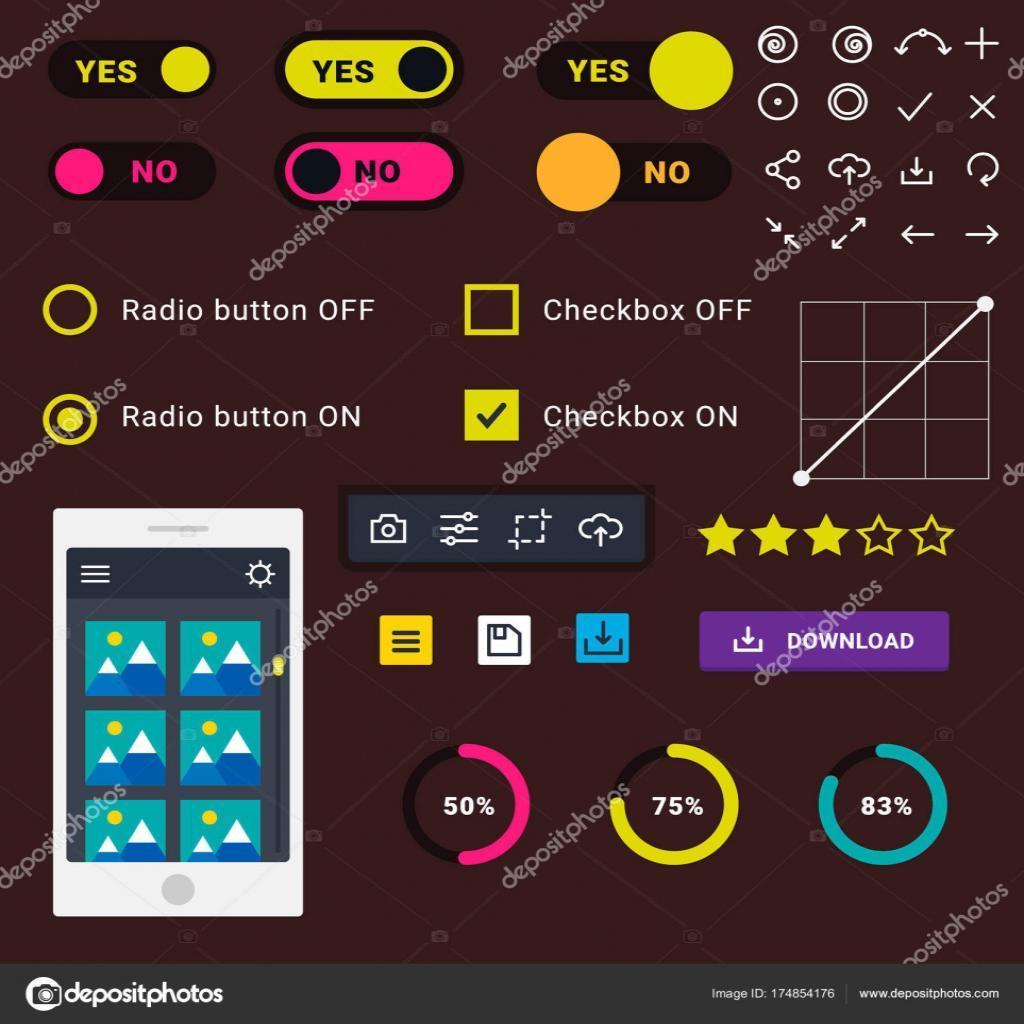button: (699, 615, 951, 675)
checkbox: (465, 391, 521, 443), (465, 286, 519, 337)
icon: (479, 614, 533, 665), (577, 615, 632, 664), (822, 148, 878, 195), (895, 26, 957, 68), (384, 617, 435, 667), (435, 510, 483, 552), (577, 511, 625, 552), (763, 146, 803, 193), (509, 508, 552, 551), (962, 146, 1002, 192), (892, 89, 940, 126), (899, 154, 939, 194), (765, 215, 804, 256), (832, 214, 871, 254), (966, 28, 1004, 67), (75, 561, 121, 593), (370, 513, 410, 549), (962, 92, 1003, 127), (964, 217, 1002, 252), (899, 219, 937, 253), (243, 561, 277, 593)
label: (119, 398, 370, 433), (121, 296, 376, 327), (544, 400, 744, 435), (538, 296, 756, 326)
radio: (42, 282, 102, 342), (43, 395, 101, 447)
switch: (530, 133, 741, 217), (540, 34, 742, 111), (275, 135, 467, 210), (278, 34, 465, 109), (46, 141, 218, 209), (47, 39, 218, 102)
